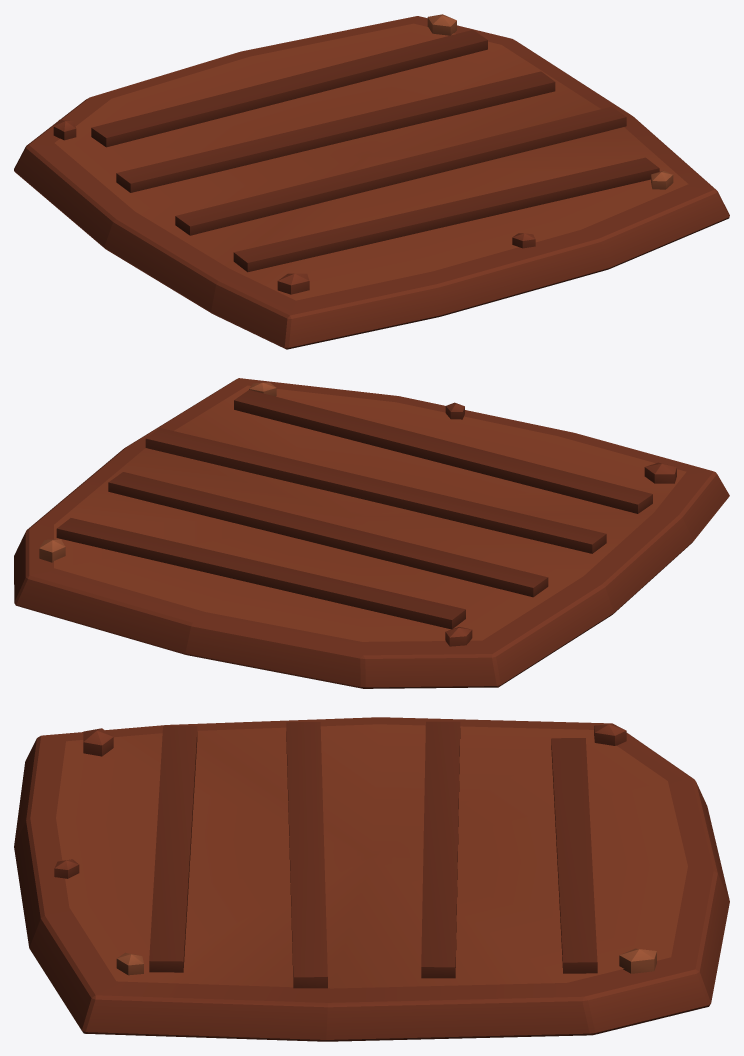
Rendered from ground.glb.
The picture shows the model from 3 angles, top to bottom: view 1: azimuth 30°, elevation 25°; view 2: azimuth 150°, elevation 25°; view 3: azimuth 270°, elevation 25°; orthographic projection. The views are drawn at different scales.
Parts seen in each view (by area): view 1: SM_ground_plot; view 2: SM_ground_plot; view 3: SM_ground_plot.
Boxes of the visible parts, x1=… form: SM_ground_plot: x1=14, y1=14, x2=729, y2=349; SM_ground_plot: x1=14, y1=378, x2=729, y2=688; SM_ground_plot: x1=14, y1=717, x2=729, y2=1041.
Bounding box in the file's own units: 1.85 × 0.1564 × 1.87.
